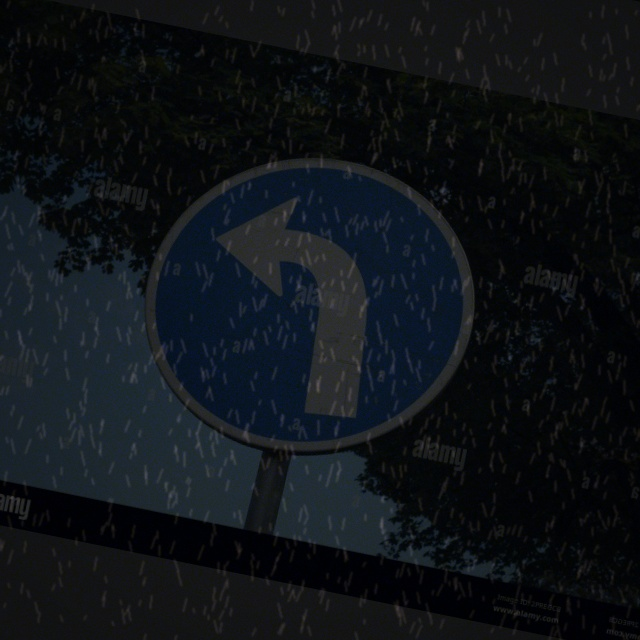Compulsory_Turn_Left_Ahead: (120, 128, 494, 488)
